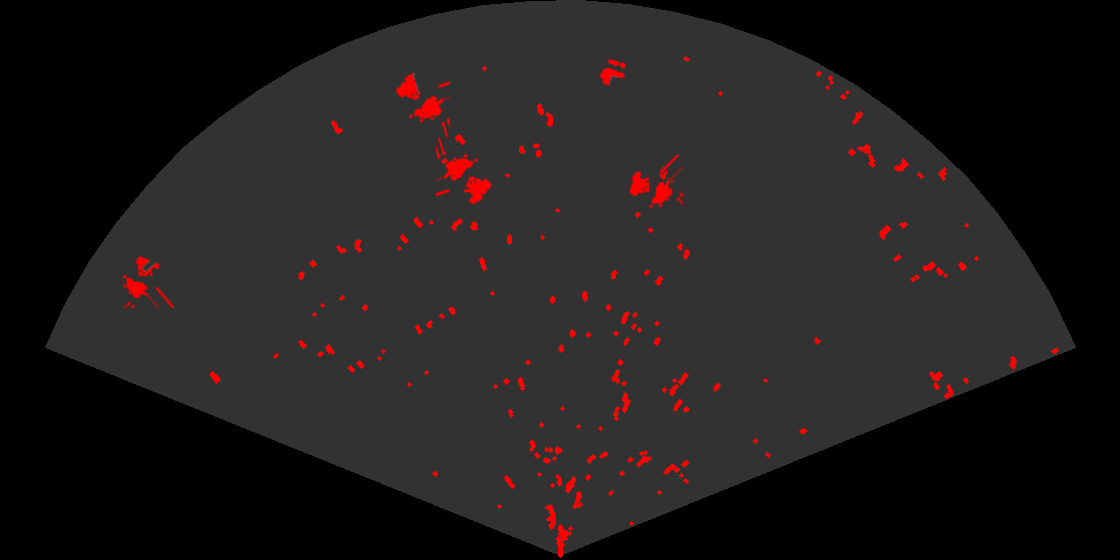ball: (598, 57, 628, 87)
cage: (436, 138, 493, 206), (394, 70, 450, 137), (627, 155, 683, 210), (121, 254, 174, 308)
